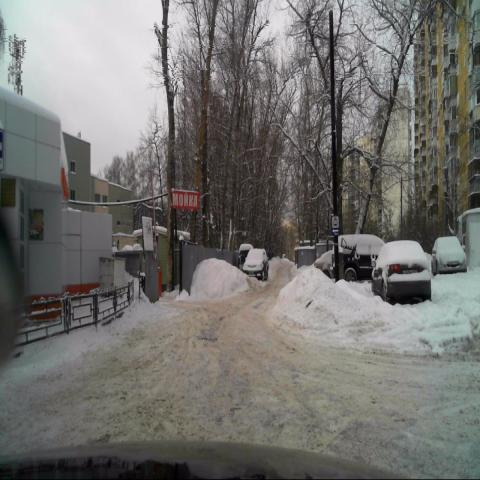7_5: (331, 216, 341, 237)
